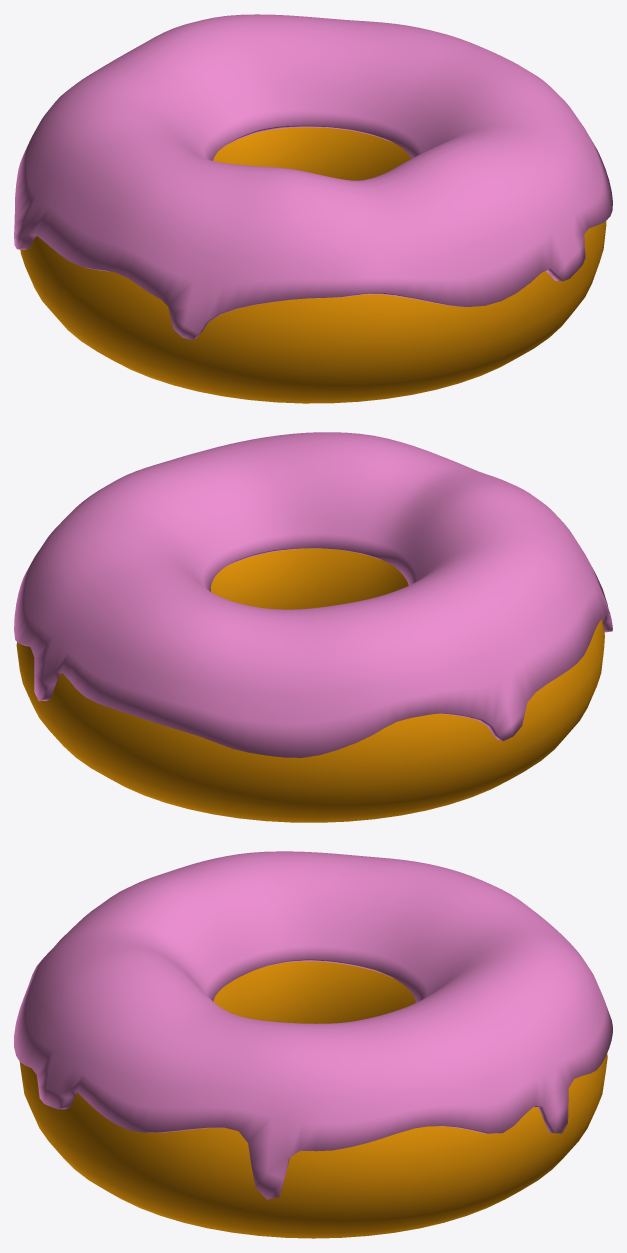
The model's file is donut_strawberry_icing.glb.
3 renders of one model, top to bottom at view 1: azimuth 30°, elevation 25°; view 2: azimuth 150°, elevation 25°; view 3: azimuth 270°, elevation 25°, orthographic.
Parts seen in each view (by area): view 1: Icing.001_3, Donut.001_2; view 2: Icing.001_3, Donut.001_2; view 3: Icing.001_3, Donut.001_2.
Boxes of the visible parts, x1,y1,x2,y2 form: Icing.001_3: [14, 14, 612, 340]; Donut.001_2: [20, 127, 606, 403]; Icing.001_3: [14, 432, 612, 757]; Donut.001_2: [16, 548, 604, 822]; Icing.001_3: [14, 851, 612, 1199]; Donut.001_2: [19, 961, 607, 1238].
Size of the model in its own units: 0.1487 by 0.0592 by 0.1511.
